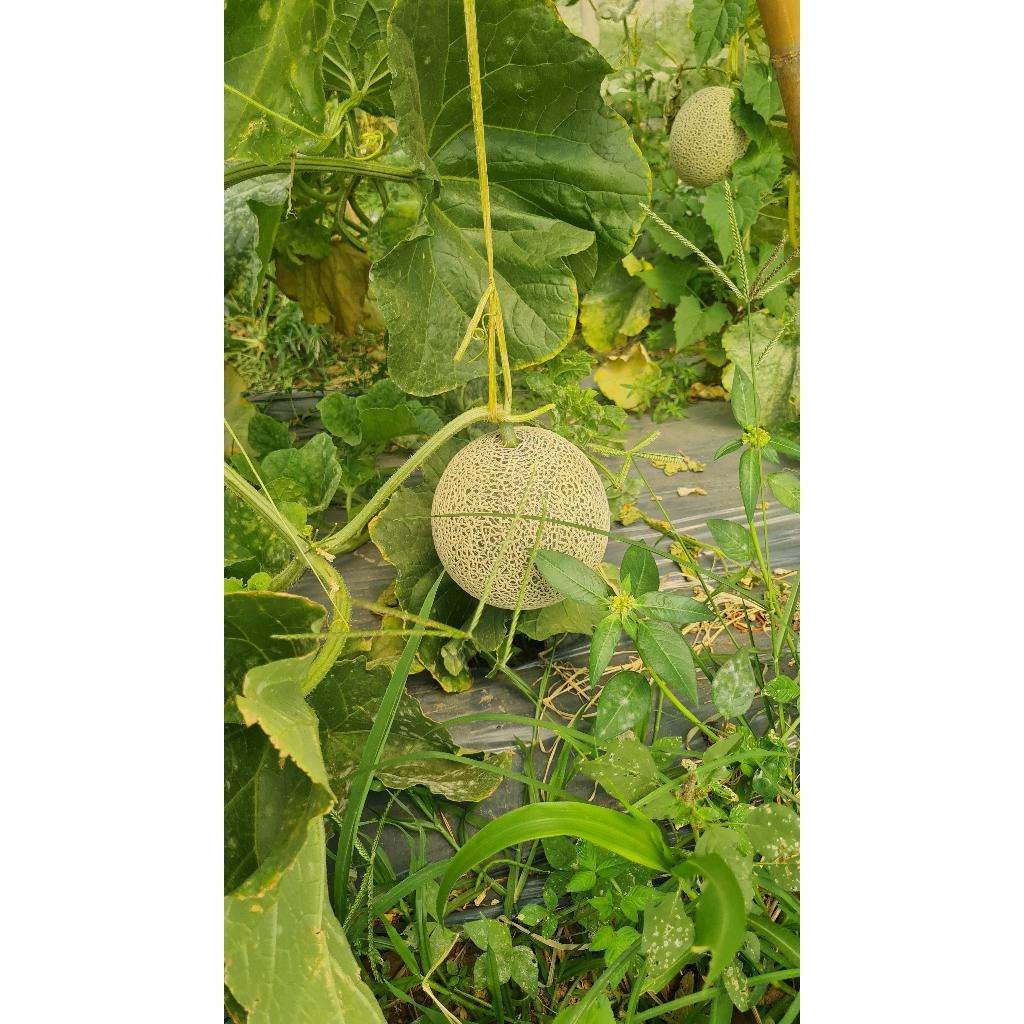melon: (432, 426, 610, 610)
